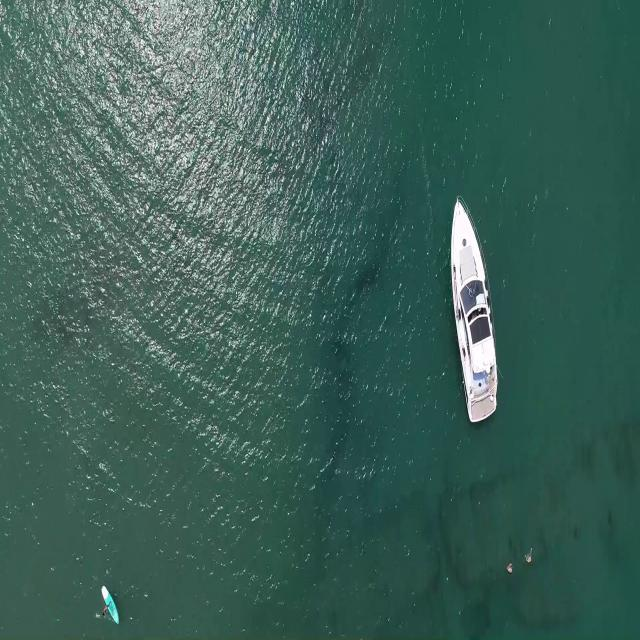boat: (449, 194, 504, 426)
person: (523, 550, 536, 564), (100, 601, 112, 616), (506, 563, 514, 573)
surfboard: (102, 584, 118, 633)
